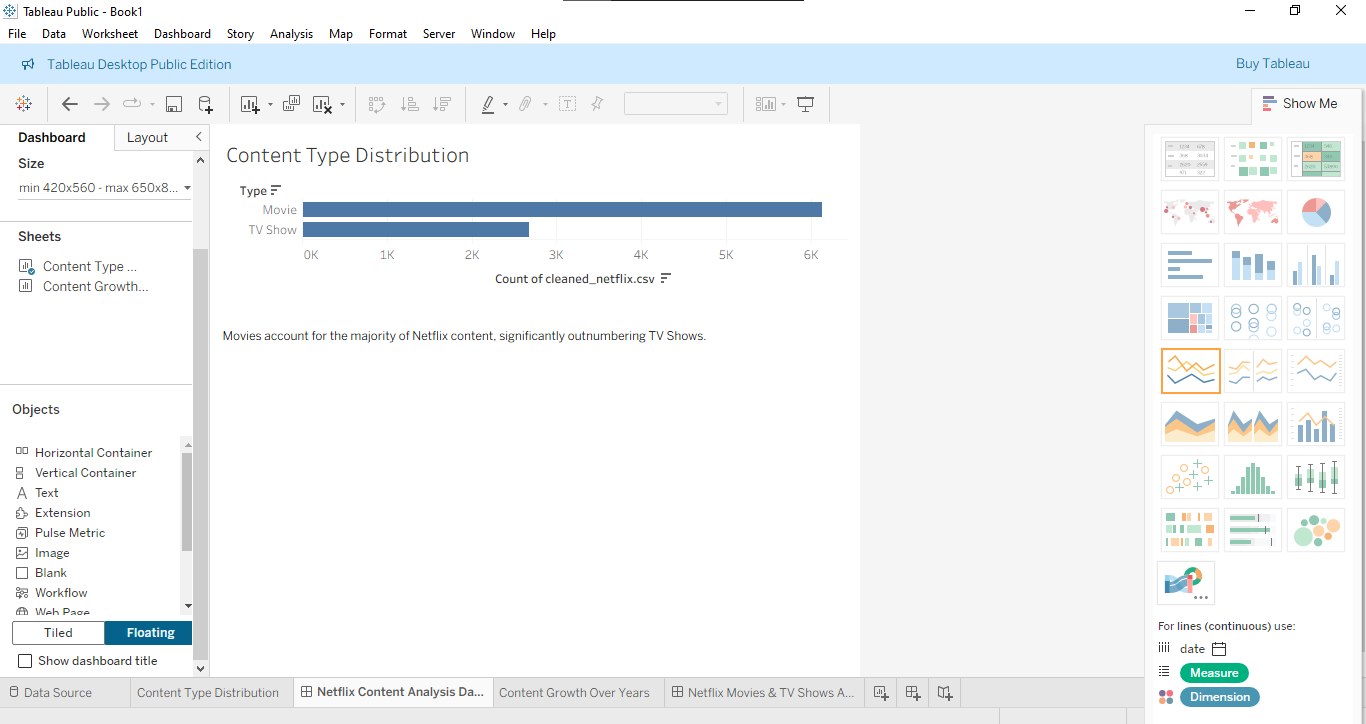

The page's visual inventory and layout, read from the dashboard file:
{"tool":"tableau","page":{"name":"Netflix Content Analysis Dashboard","canvas":[650,860],"ordinal":0},"visuals":[{"type":"worksheet","title":"Content Type Distribution","mark":"Automatic","rows":["type"],"cols":["cleaned_netflix.csv_E1883C6D12EF4308B21C2959DB6DEFF2"],"box":[8,12.3,634,835.4]},{"type":"text","box":[10,297.9,621,55.3]}]}

Visuals, with their boxes on the page's 650x860 design canvas (x1, y1, x2, y2). These are canvas units, not pixel positions in the 1366x724 screenshot, which may show the page scaled, cropped or inside an application window:
"Content Type Distribution" worksheet: <region>8, 12, 642, 848</region>
text: <region>10, 298, 631, 353</region>
